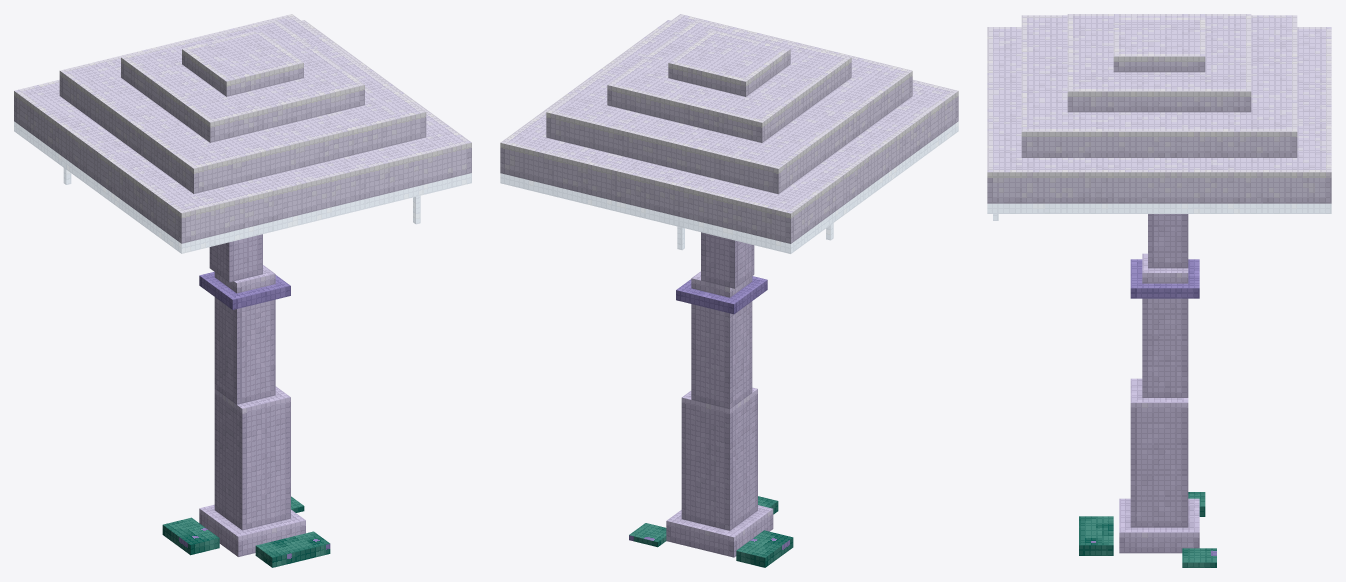
The model's file is GlowcapGiant.glb.
The picture shows the model from 3 angles, left to right: view 1: azimuth 30°, elevation 25°; view 2: azimuth 150°, elevation 25°; view 3: azimuth 270°, elevation 25°; orthographic projection. The views are drawn at different scales.
Parts seen in each view (by area): view 1: Body, BodyDark, Glow, Trim, Accessory; view 2: Body, BodyDark, Glow, Trim, Accessory; view 3: Body, BodyDark, Glow, Trim, Accessory.
Part boxes in pixels (x1=…): Body: x1=14, y1=14, x2=471, y2=243; BodyDark: x1=199, y1=234, x2=305, y2=556; Glow: x1=14, y1=121, x2=471, y2=253; Trim: x1=162, y1=496, x2=330, y2=567; Accessory: x1=199, y1=271, x2=290, y2=309; Body: x1=500, y1=14, x2=958, y2=243; BodyDark: x1=666, y1=232, x2=773, y2=557; Glow: x1=500, y1=121, x2=958, y2=253; Trim: x1=629, y1=496, x2=793, y2=567; Accessory: x1=676, y1=276, x2=767, y2=314; Body: x1=987, y1=14, x2=1331, y2=203; BodyDark: x1=1119, y1=214, x2=1199, y2=553; Glow: x1=987, y1=203, x2=1331, y2=220; Trim: x1=1079, y1=492, x2=1216, y2=567; Accessory: x1=1130, y1=259, x2=1199, y2=298.
Size of the model in its own units: 15 by 23.75 by 15.
5 materials, 5 textured.
